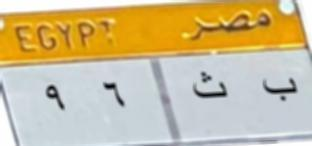6: (100, 79, 133, 110)
9: (40, 79, 72, 114)
baa: (256, 70, 302, 108)
thaa: (186, 65, 232, 104)
